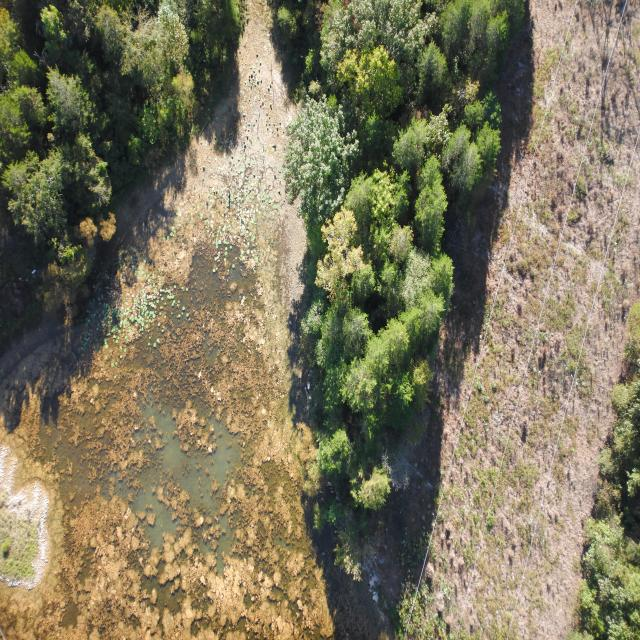Area of Interest: (295, 7, 534, 515), (587, 346, 640, 620)
